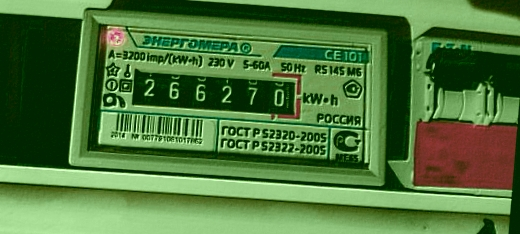0: (272, 87, 286, 108)
2: (141, 77, 158, 98), (219, 83, 234, 104)
6: (167, 79, 182, 101), (194, 82, 208, 103)
7: (245, 85, 258, 105)
screen: (122, 58, 310, 125)
